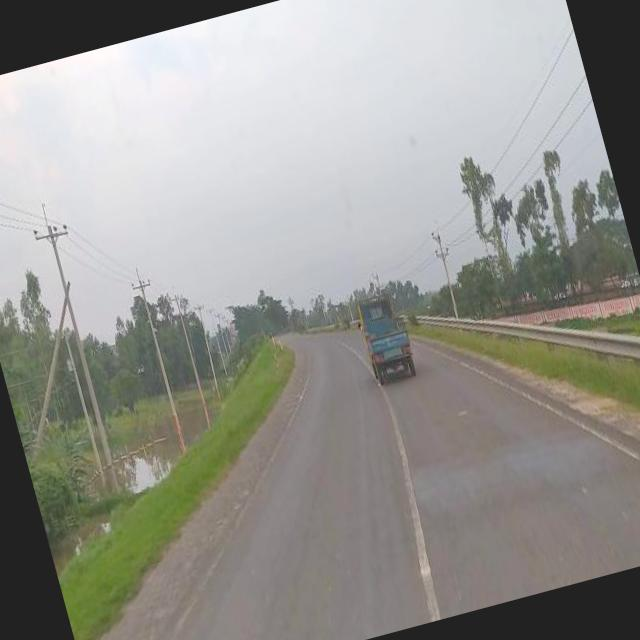truck: (349, 284, 422, 388)
